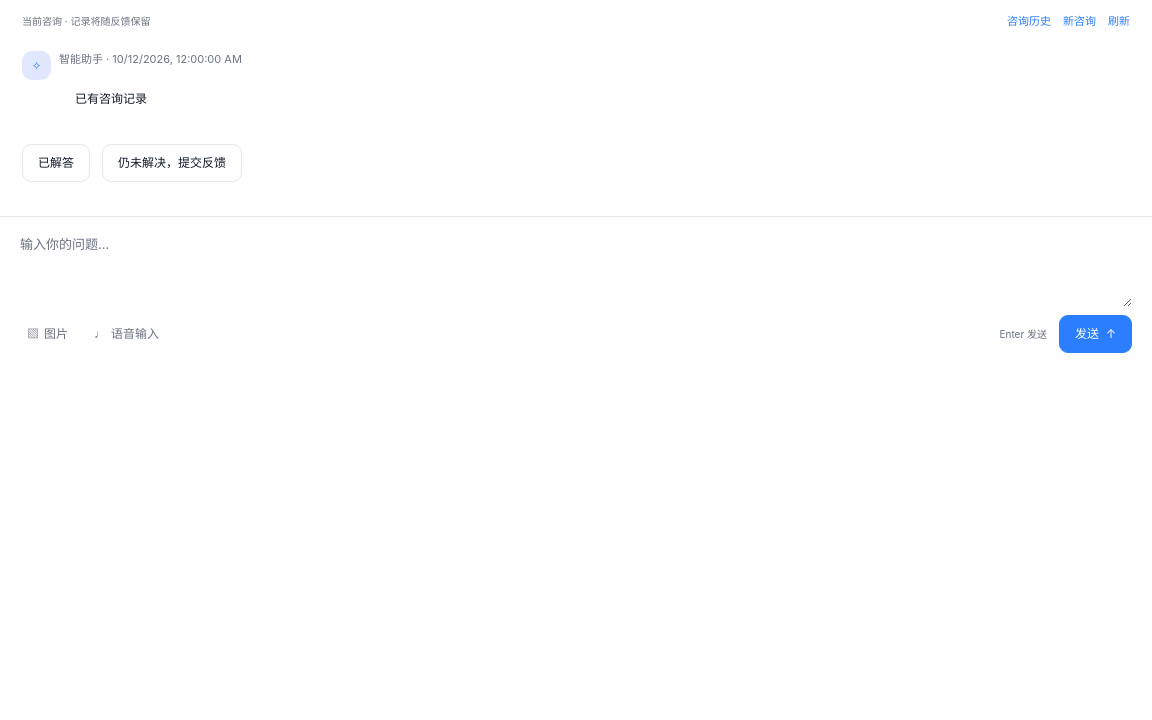
Test: consultation history continuity › clears the old summary and restores only the selected history summary after confirmation
The width and height of the screenshot is (1152, 720).
Check: the text "已有咨询记录" is shown, box [75, 90, 147, 106]
Click the button "咨询历史".
click(1029, 21)  # box [1007, 13, 1051, 29]
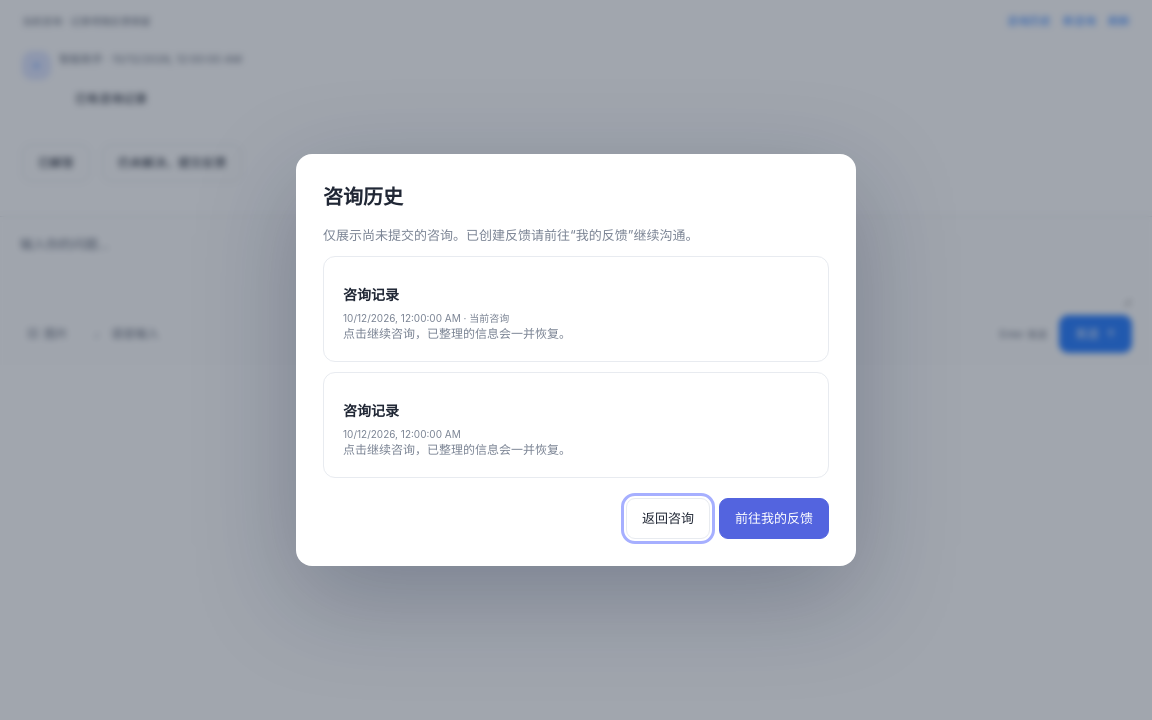
Click the button "咨询记录 10/12/2026, 12:00:00 AM 点击继续咨询，已整理的信息会一并恢复。".
click(371, 410)  # box [323, 372, 829, 478]
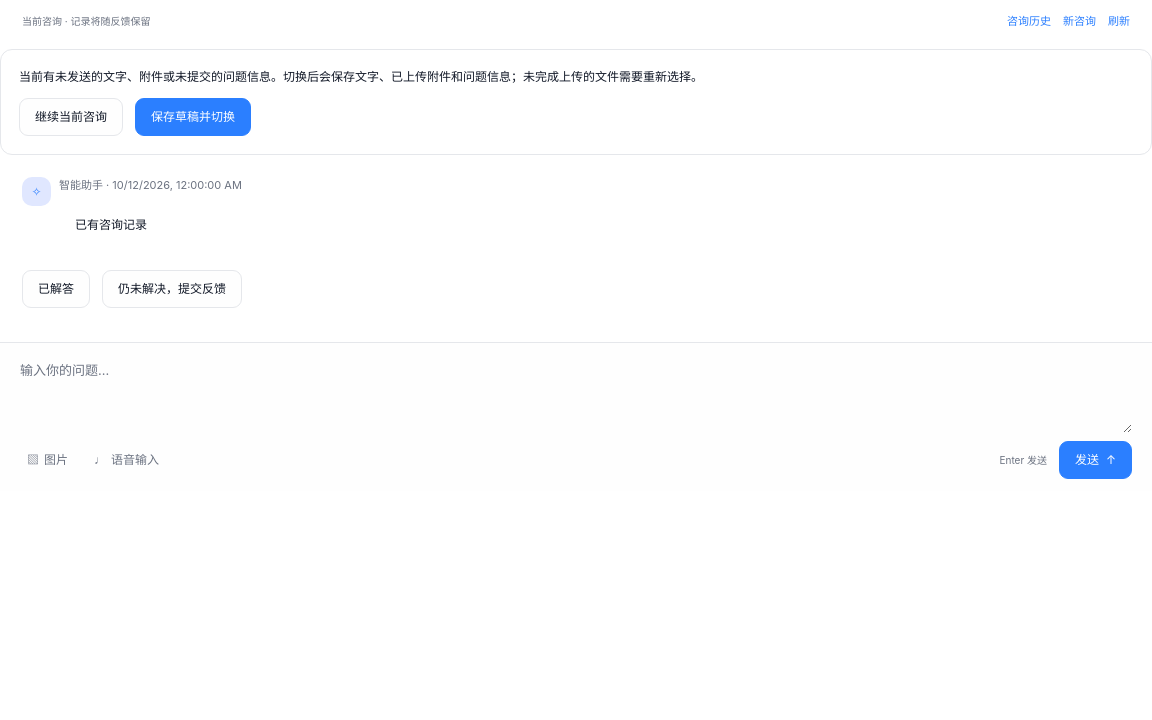
Click the button "保存草稿并切换".
click(193, 117)  # box [135, 98, 251, 136]
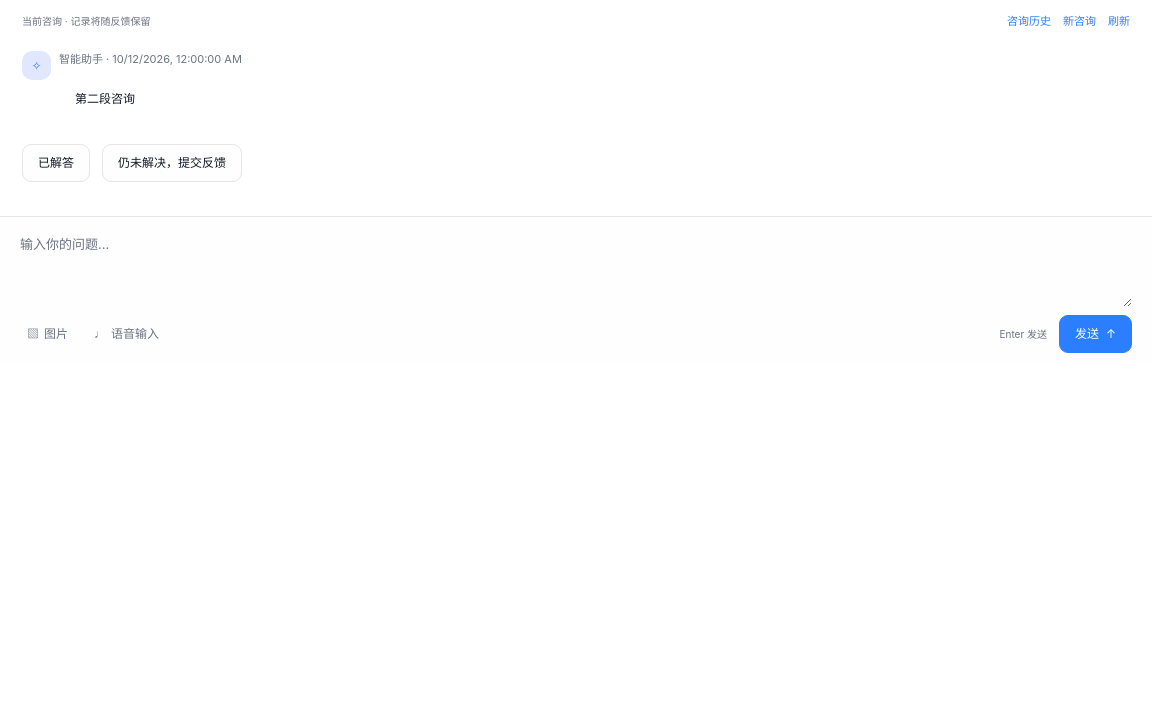
Check: the text "第二段咨询" is shown, box [75, 90, 135, 106]
